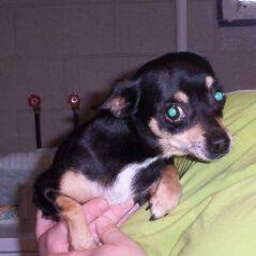dog: (31, 50, 233, 251)
